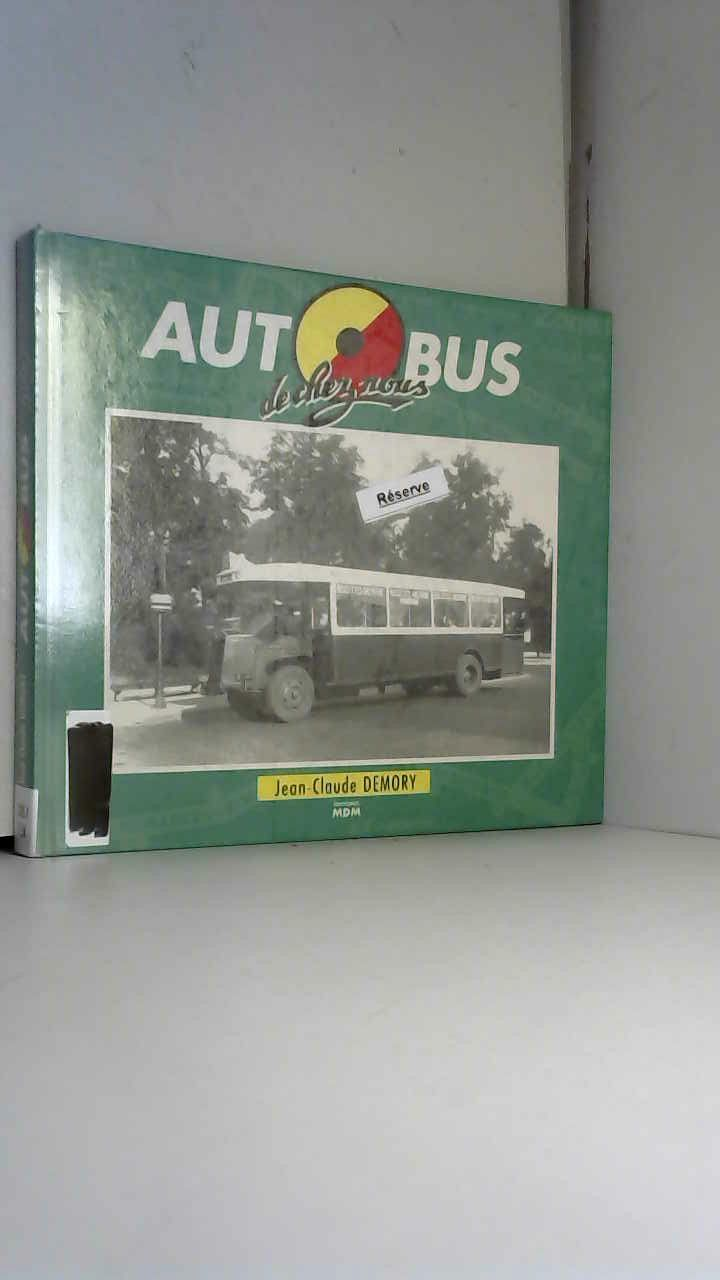book: (6, 195, 649, 894)
